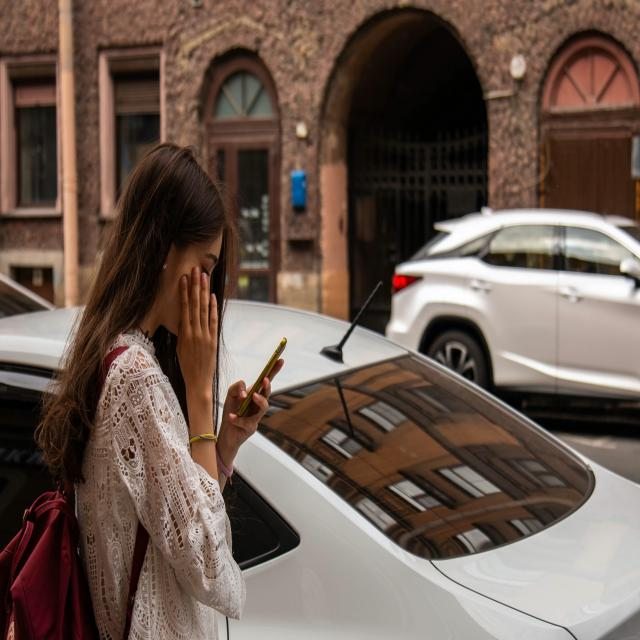adult: (53, 120, 284, 640)
